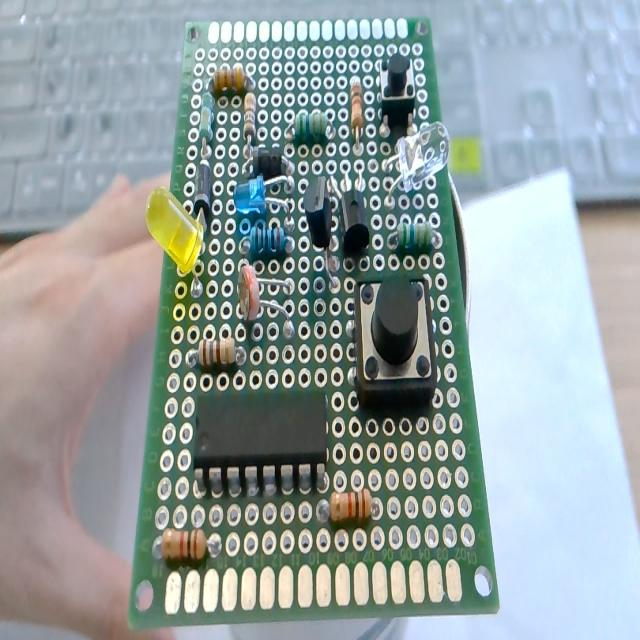IC: (194, 387, 326, 484)
cds: (237, 261, 293, 328)
diode: (252, 145, 286, 180), (194, 161, 212, 224)
led: (146, 181, 212, 305), (386, 118, 450, 195), (234, 174, 289, 213)
resistor: (317, 492, 380, 524), (249, 221, 288, 260), (162, 528, 207, 561), (198, 337, 238, 367), (241, 91, 257, 162), (395, 222, 430, 254), (214, 64, 248, 96), (294, 112, 329, 143), (349, 78, 364, 139), (200, 89, 215, 140), (243, 110, 256, 137)
switch: (354, 277, 436, 409), (380, 53, 415, 124)
transistor: (304, 173, 342, 286), (340, 187, 369, 256)
